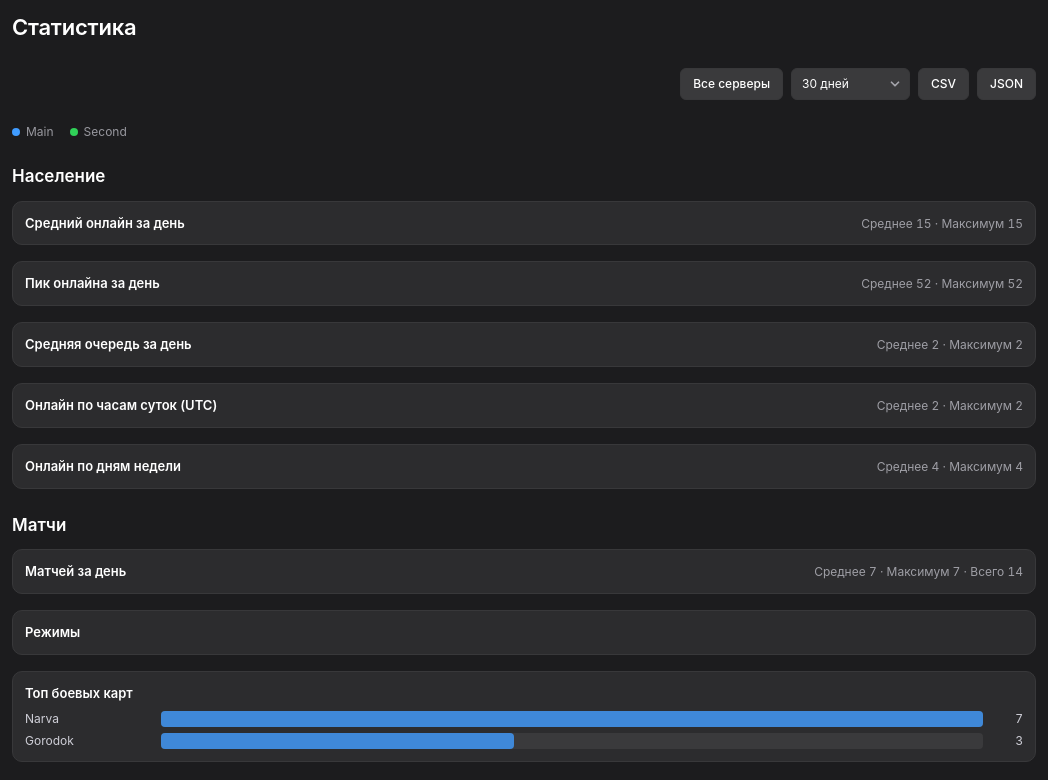
Test: StatisticsBrowser — branch coverage › discards a stale /api/v1/statistics response that resolves after a newer request (#729)
Expected: the heading "Население" is shown, [12,166,105,186]
Select "Неделя" in the dropdown named "Период" at (850, 84), box [791,68,910,100]
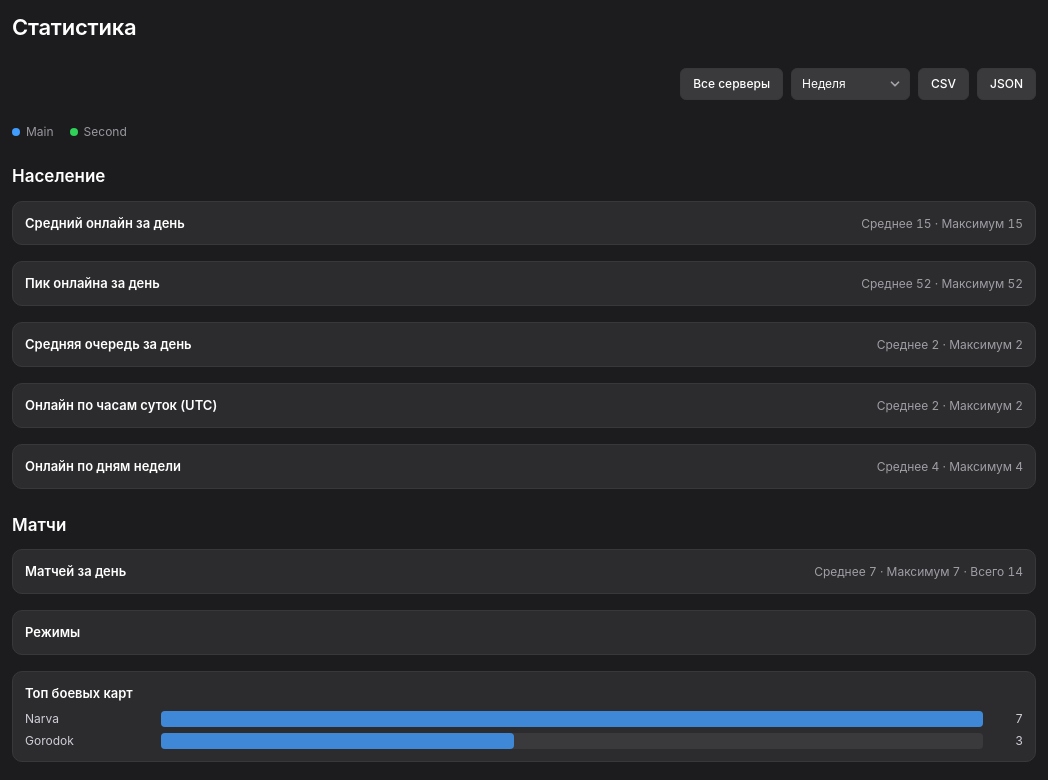
Select "Сегодня" in the dropdown named "Период" at (850, 84), box [791,68,910,100]
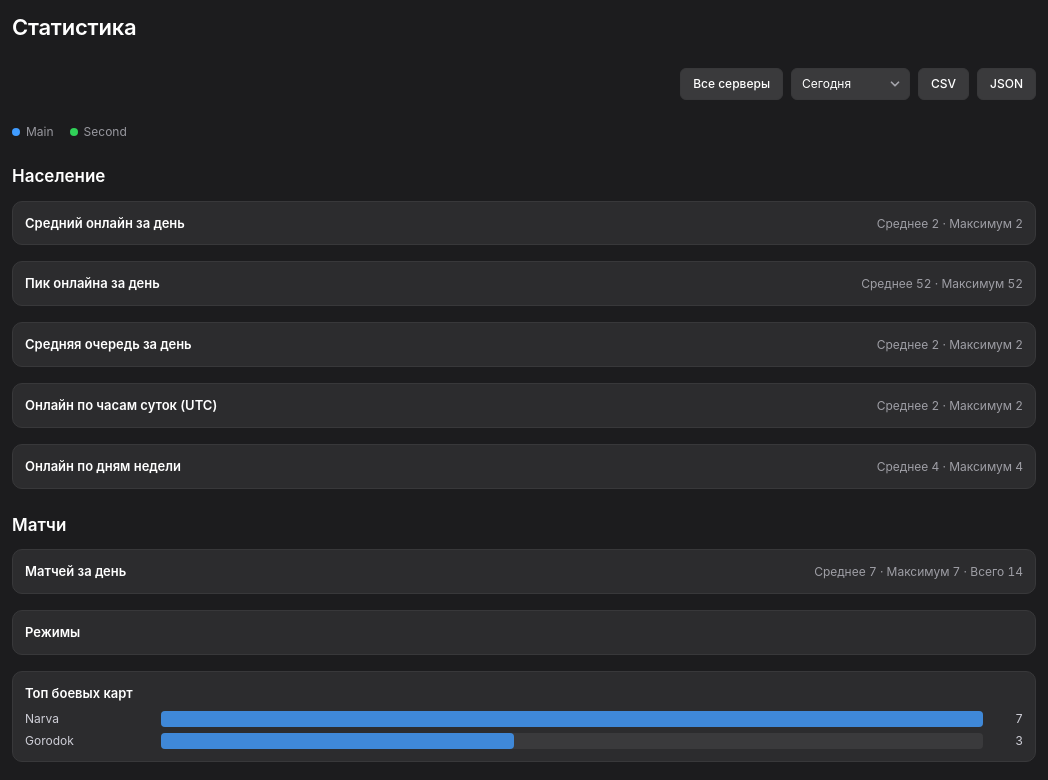
Expected: the text "Средний онлайн за день" is shown, [25,214,185,230]
Now the text "Среднее 2 · Максимум 2" in the row of "Средний онлайн за день" is shown, box [877,216,1023,232]
